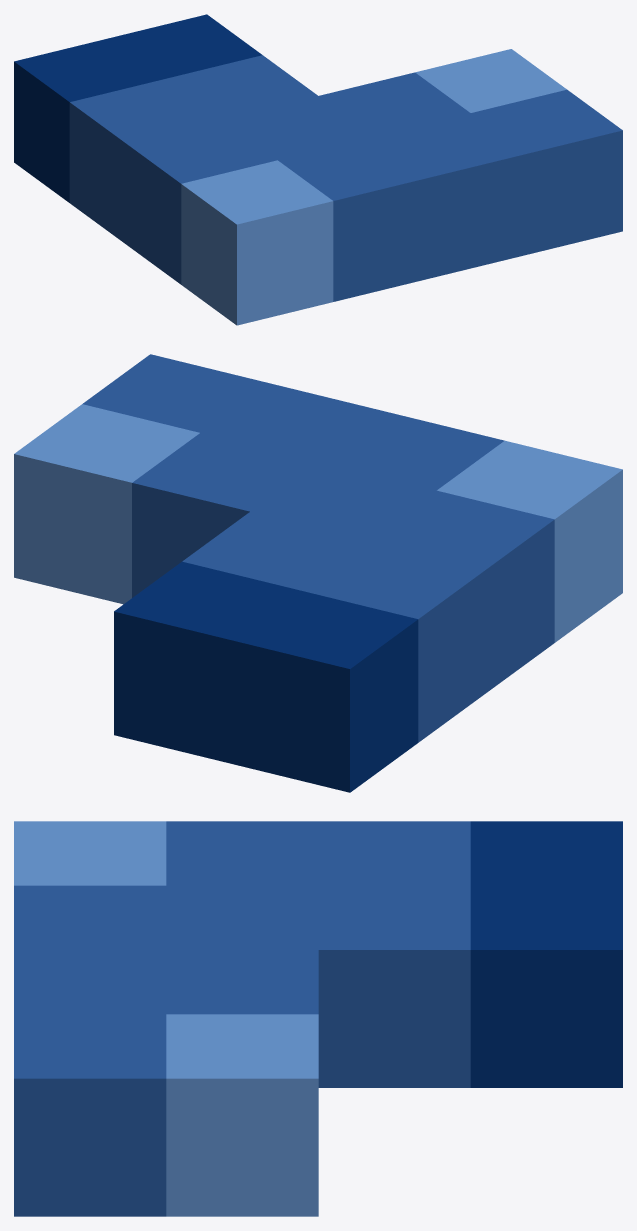
File: Sock01.gltf
3 views of the same model, one above another, from view 1: azimuth 30°, elevation 25°; view 2: azimuth 150°, elevation 25°; view 3: azimuth 270°, elevation 25° (orthographic). The views are drawn at different scales.
Parts seen in each view (by area): view 1: Layer.4; view 2: Layer.4; view 3: Layer.4.
Part boxes in pixels (bbox=[...]): Layer.4: bbox=[14, 14, 622, 325]; Layer.4: bbox=[14, 354, 622, 792]; Layer.4: bbox=[14, 821, 622, 1216].
Bounding box in the file's own units: 4 × 1 × 4.
